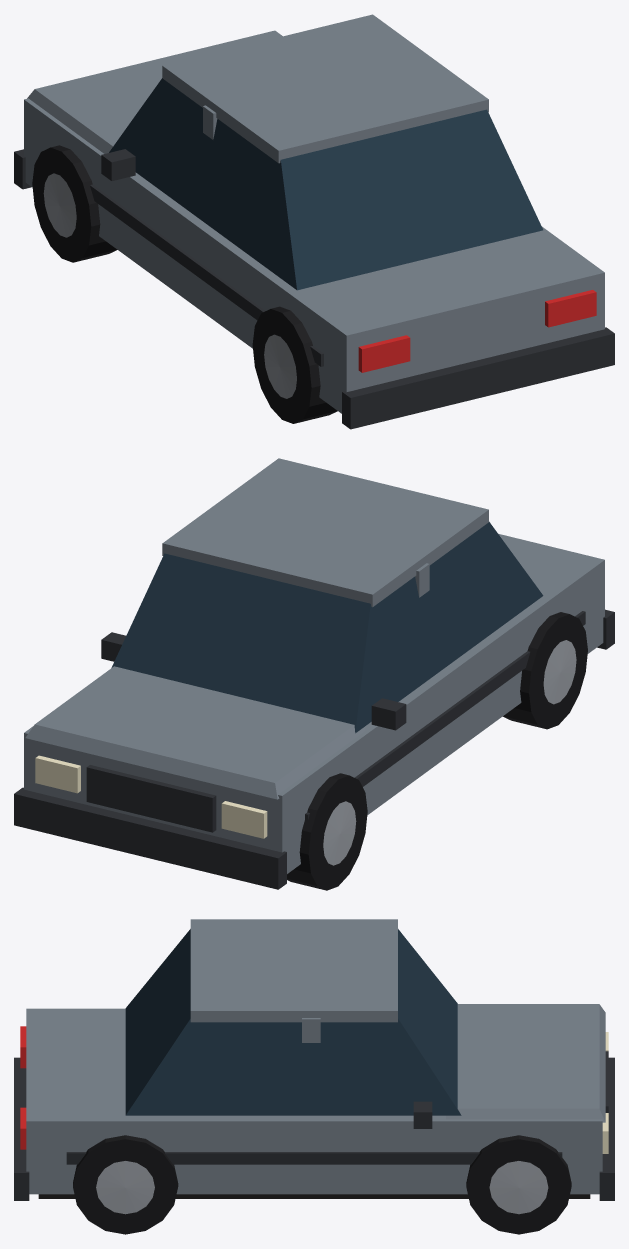
The model's file is abandoned_car.obj.
The picture shows the model from 3 angles, top to bottom: view 1: azimuth 30°, elevation 25°; view 2: azimuth 150°, elevation 25°; view 3: azimuth 270°, elevation 25°; orthographic projection. The views are drawn at different scales.
Bounding box in the file's own units: 1.96 × 1.49 × 3.88.
